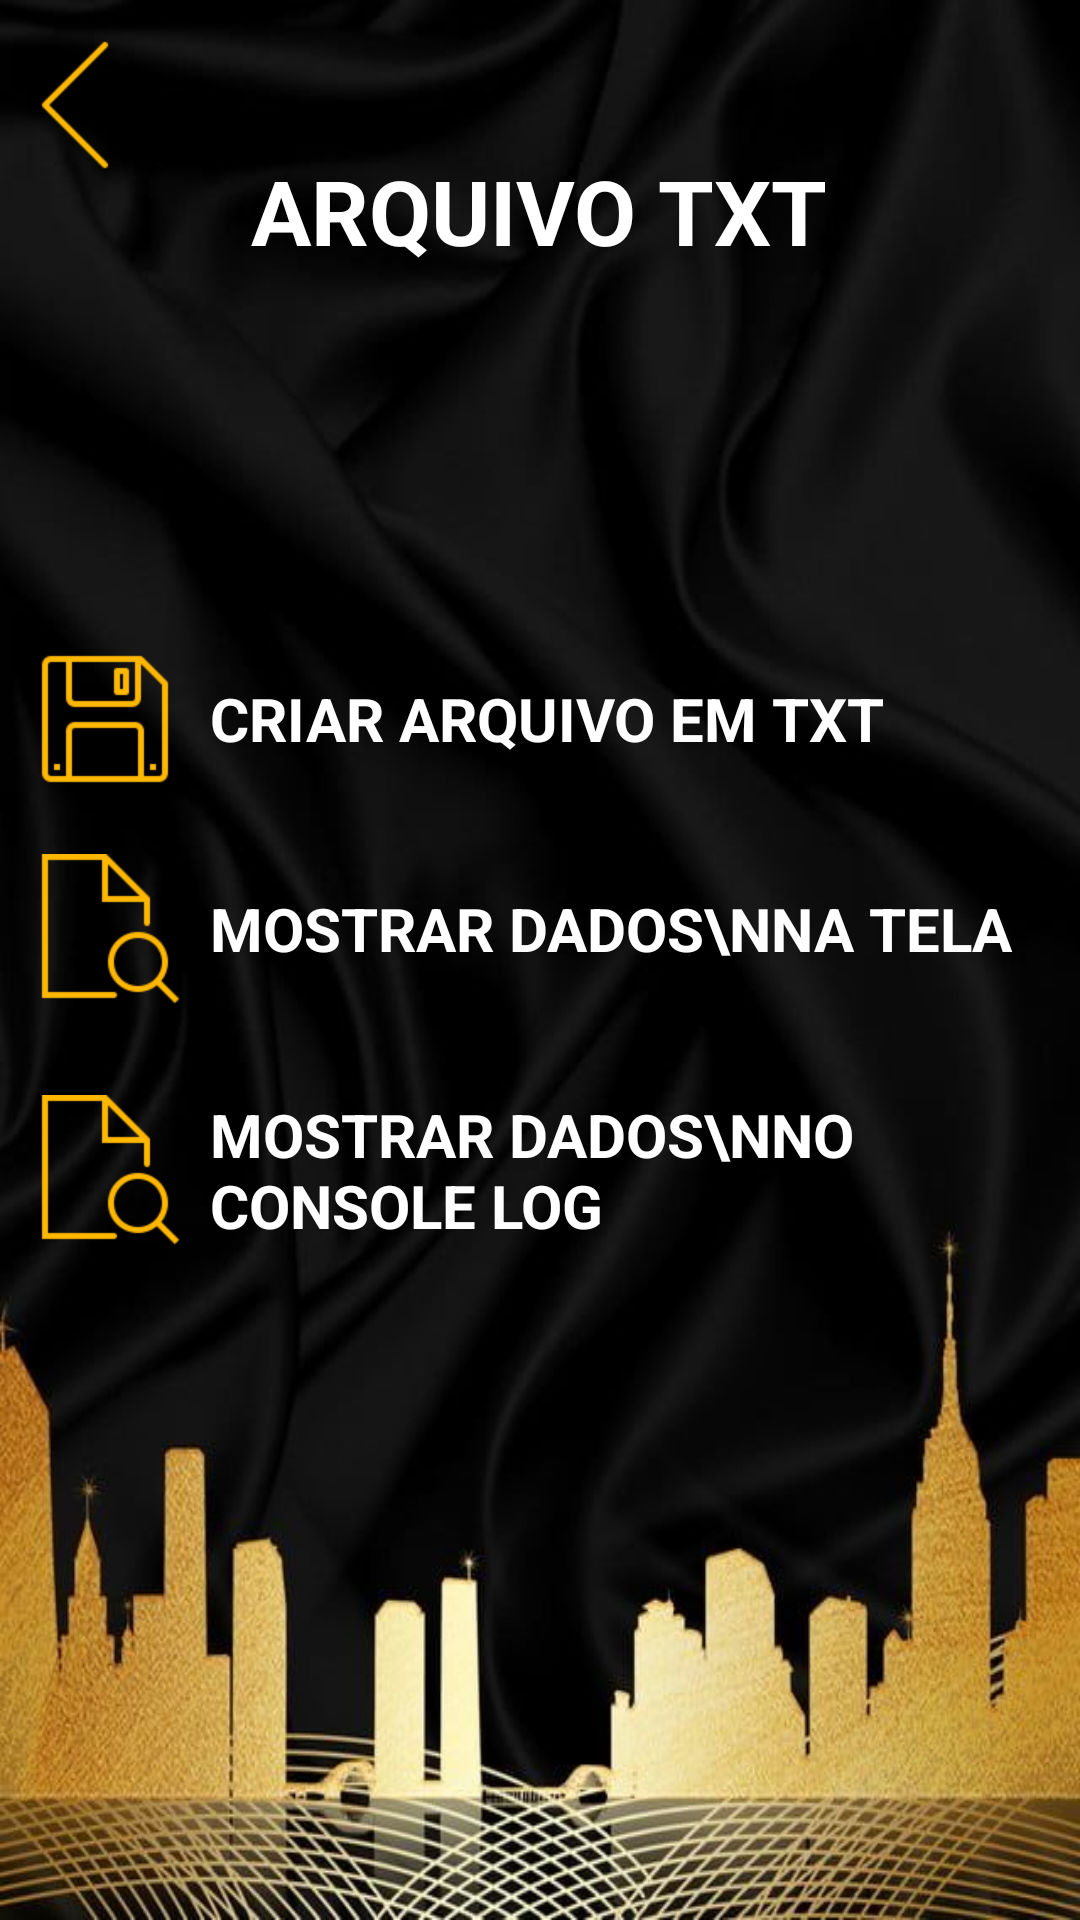

Locate icon controls on the screen. Image size 1080×1920, boxes as bbox(x1, y1, x2, y2).
back: bbox(41, 41, 109, 169)
save: bbox(41, 655, 169, 783)
view text: bbox(41, 854, 180, 1004), bbox(41, 1095, 180, 1245)
